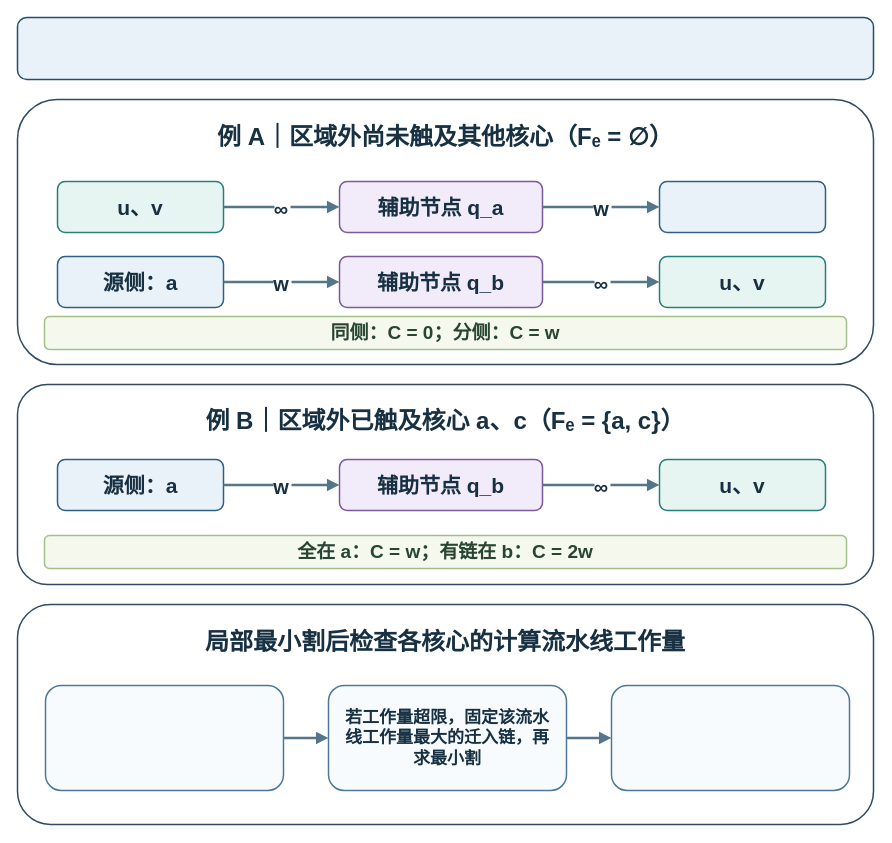
The diagram is 892 pixels wide and 843 high, and some of its shapes have lost their labels. Here are the shapes that lost their labels. From the top down, the centre of each, then its label:
pixel 445 48: 所选核心：a、b；可移动计算链：u、v
pixel 742 206: 汇侧：b
pixel 164 737: 求局部最小割
pixel 730 737: 工作量合规且局部复制量不增时，返回局部分配
